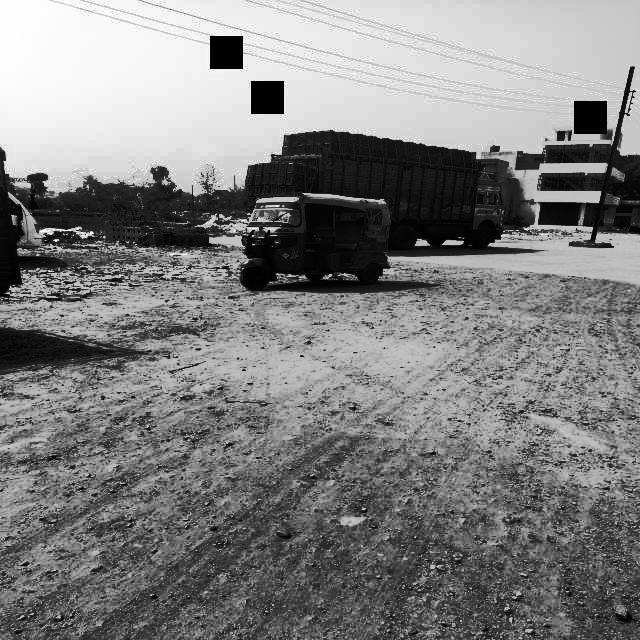Auto-Rickshaw: (234, 192, 399, 298)
